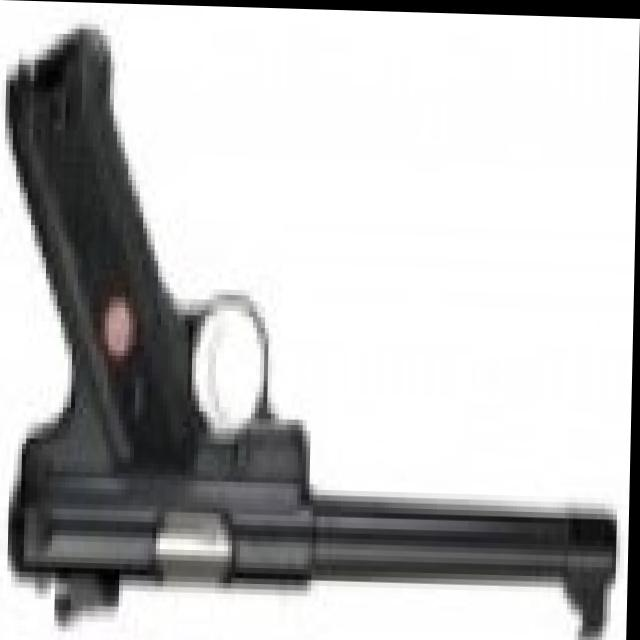handgun: (0, 43, 627, 640)
